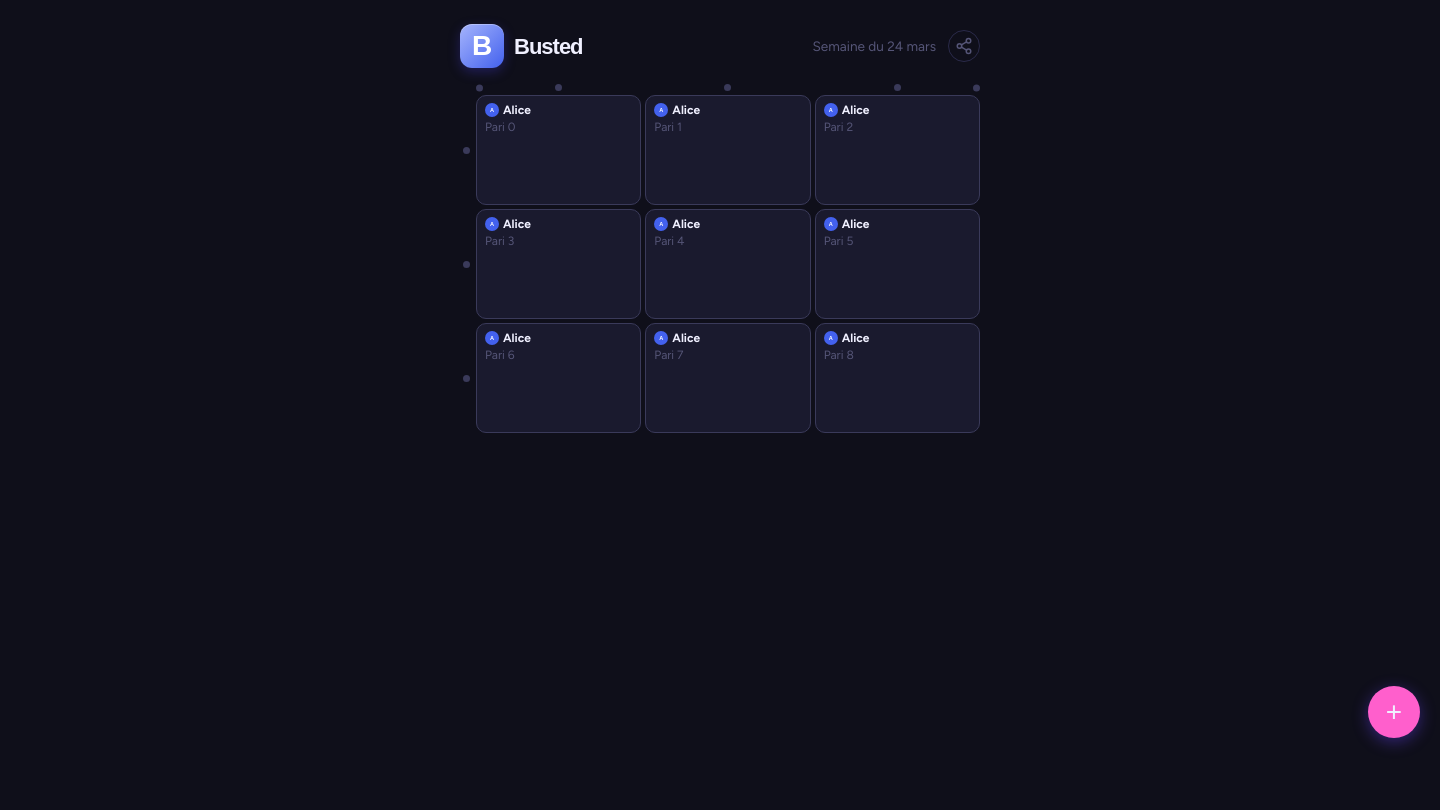
Game — grid with cells › opens CellSheet on unsubmitted cell click
Step 1. Click the text "Pari 0" → click(500, 128), box top-left (485, 120), bottom-right (516, 136)
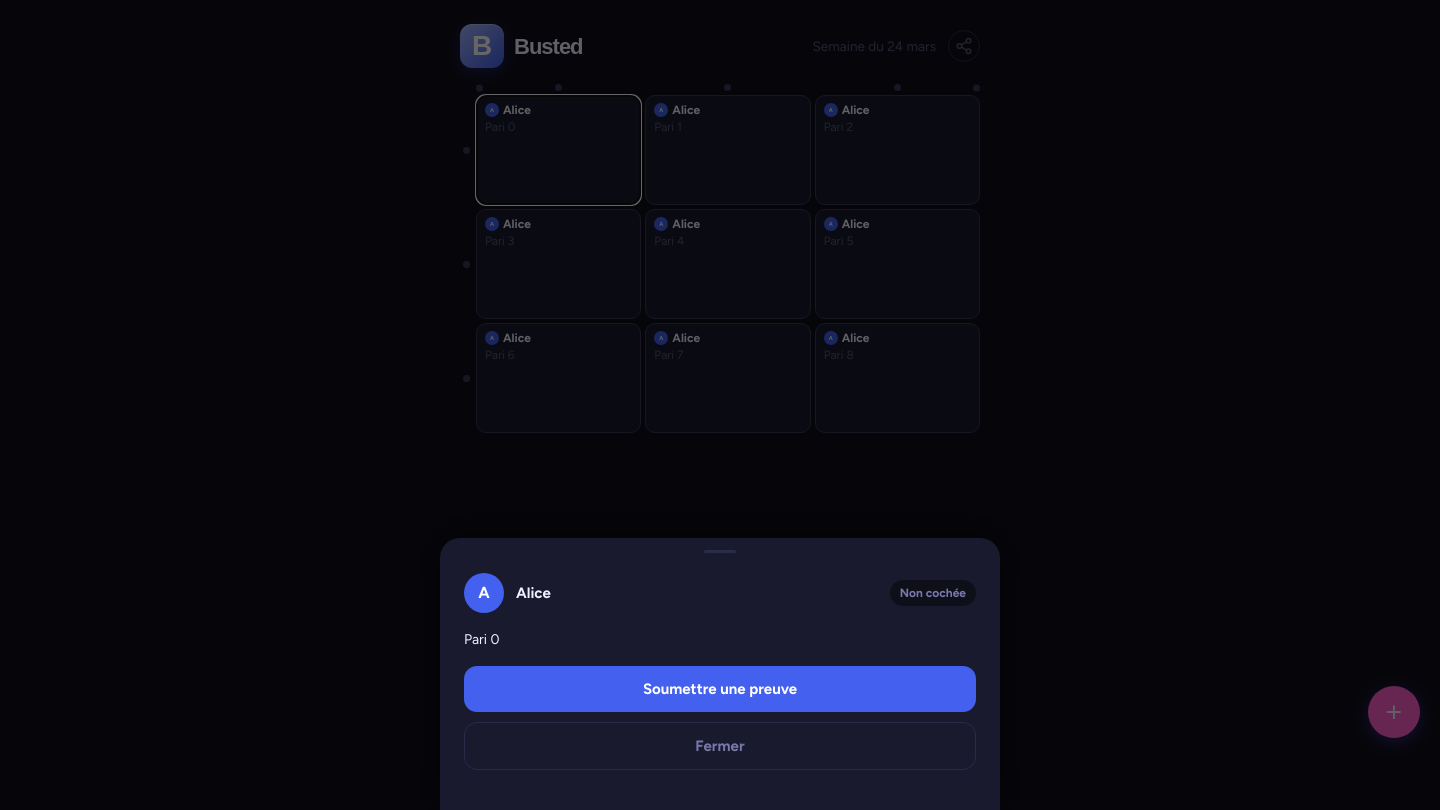
Expected: the button "Soumettre une preuve" is shown, top-left (464, 666), bottom-right (976, 712)
